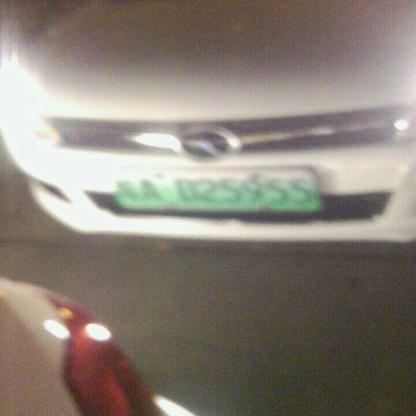lp: (110, 168, 321, 210)
